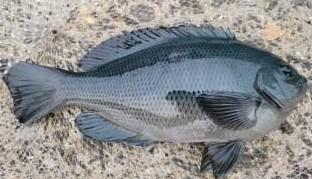fish: (4, 25, 310, 178)
